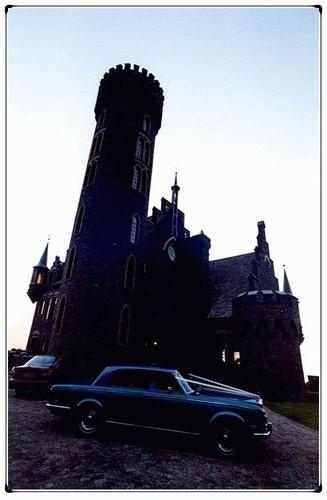car: (46, 366, 275, 458), (12, 351, 65, 395)
